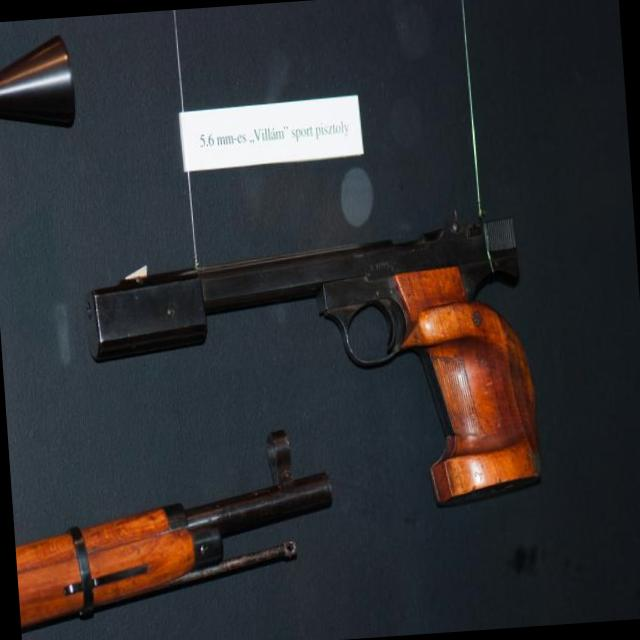Gun: (91, 219, 539, 501), (17, 430, 330, 628)
